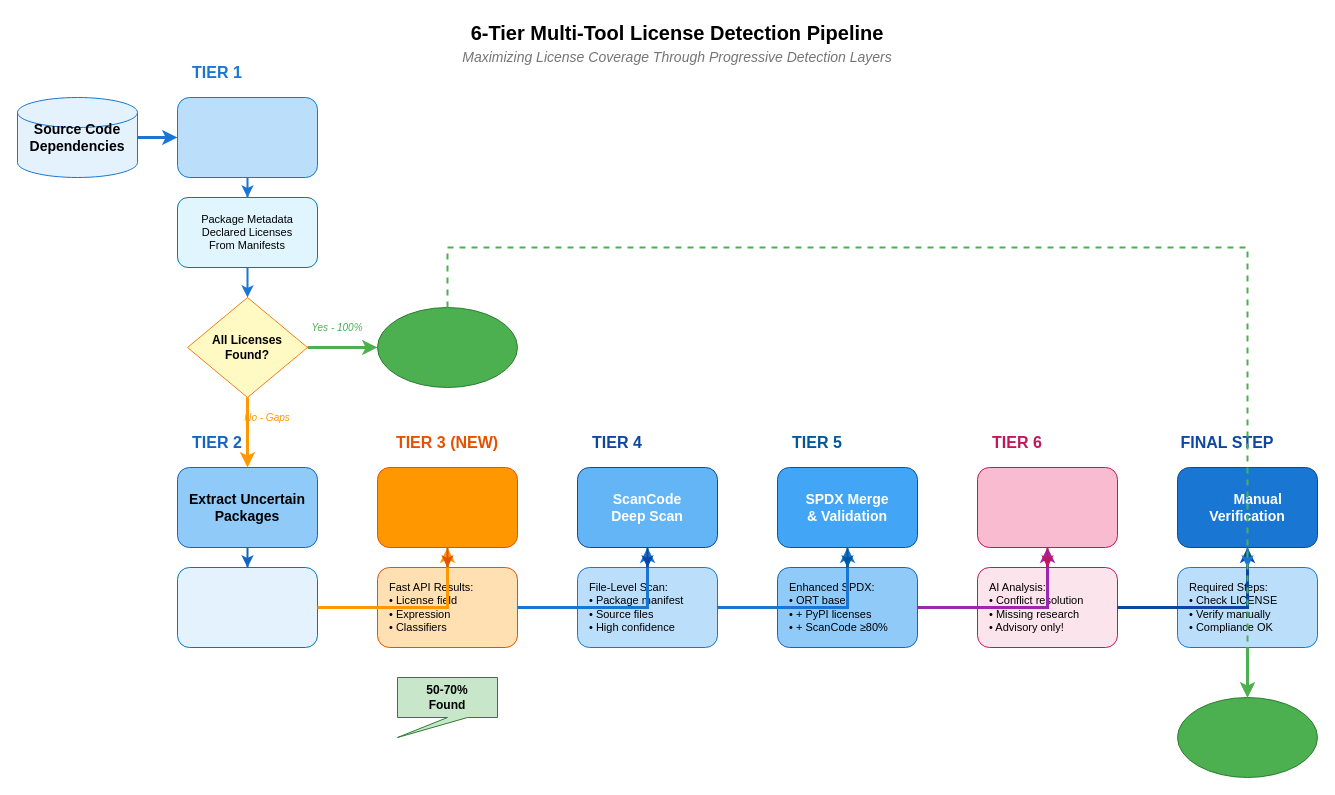
This 1335x795 diagram has some shape labels left out. Each missing label, with the centre of its shape:
"AI Curation (Advisory)" belongs at (1047,507).
"ORT Analyzer" belongs at (247,137).
"PyPI API Fetch" belongs at (447,507).
"Uncertain List: • NOASSERTION • UNKNOWN • Empty" belongs at (247,607).
"✅ 100% Coverage Production Ready" belongs at (1247,737).
"✅ Complete 100% Coverage" belongs at (447,347).
